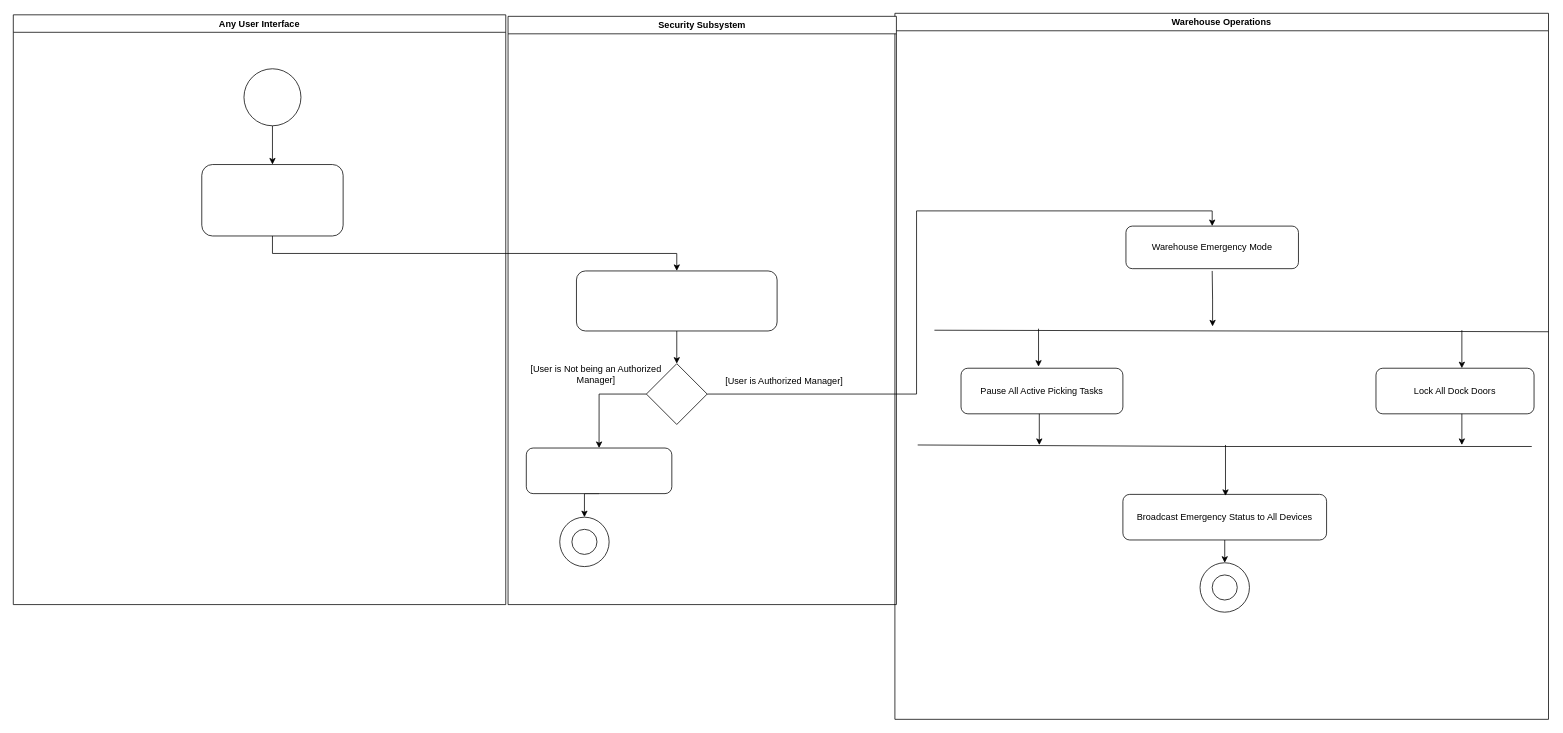
Some shapes in this 1563 by 733 pixel diagram are drawn without their labels. The shapes that lost their labels are listed below. From the top down, each one's centre as x and y in pixels, then its label:
the point at 272,200: Trigger Emergency Action
the point at 676,300: Role-Based Access Control (RBAC)
the point at 599,470: Deny Access & Log Attempt
